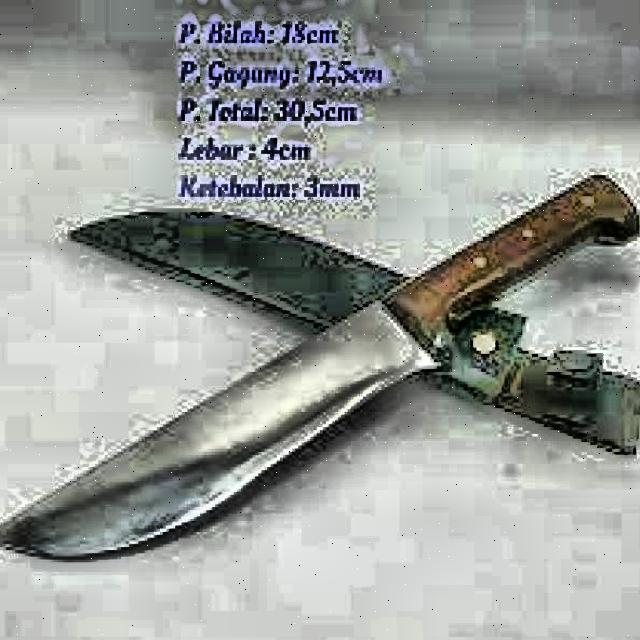knife: (0, 177, 640, 561)
